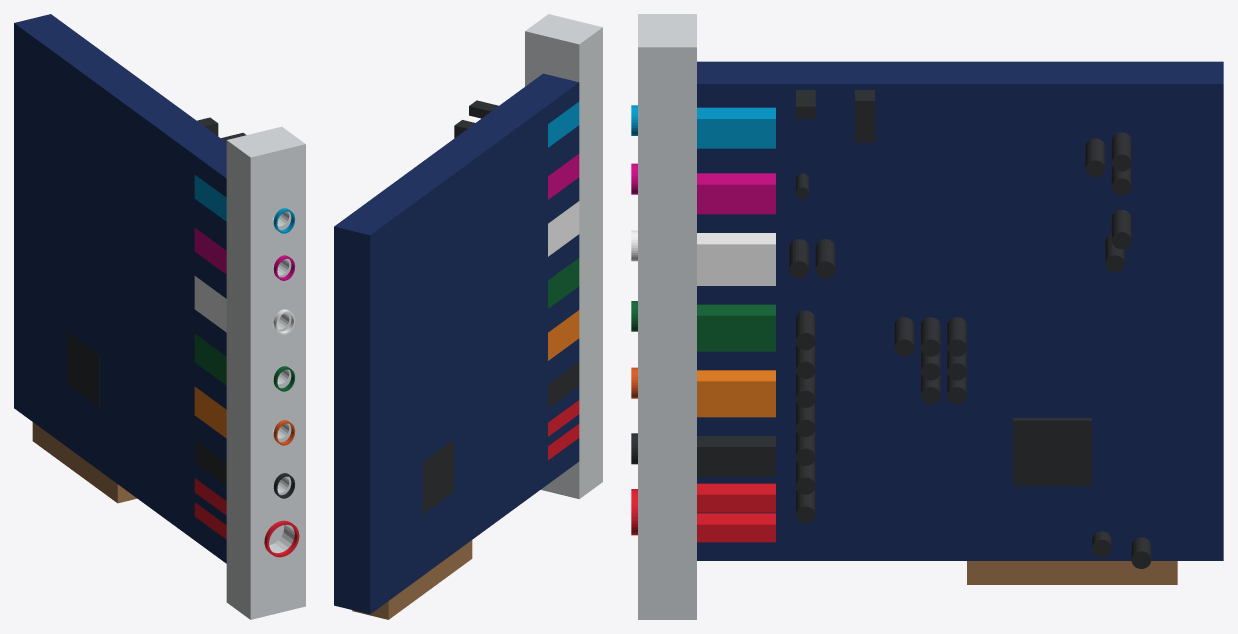
File: ses_karti.fbx
3 renders of one model, left to right at view 1: azimuth 30°, elevation 25°; view 2: azimuth 150°, elevation 25°; view 3: azimuth 270°, elevation 25°, orthographic. The views are drawn at different scales.
Visible parts, largest first — view 1: obj_0; view 2: obj_0; view 3: obj_0.
Part boxes in pixels (x1,y1,x2,y2): obj_0: (14, 14, 305, 619); obj_0: (334, 14, 602, 619); obj_0: (631, 14, 1223, 619).
Bounding box in the file's own units: 0.4064 × 2.44 × 2.29.
